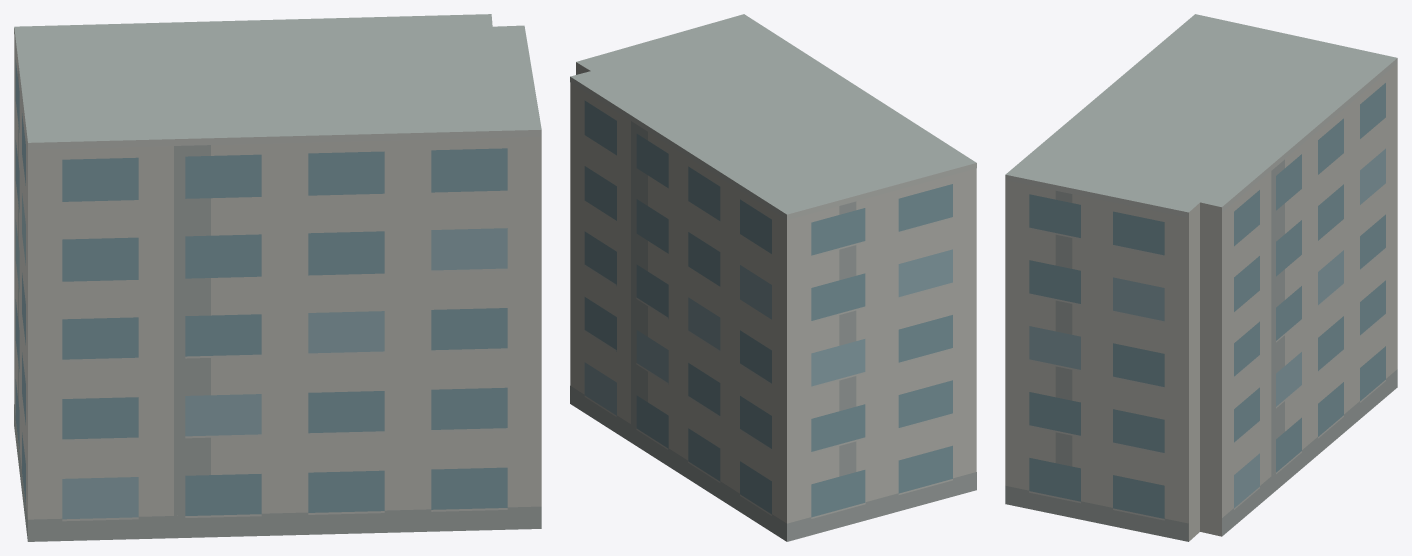
The model's file is survey-upis-32842944.glb.
The picture shows the model from 3 angles, left to right: view 1: azimuth 30°, elevation 25°; view 2: azimuth 150°, elevation 25°; view 3: azimuth 270°, elevation 25°; orthographic projection. The views are drawn at different scales.
Visible parts, largest first — view 1: survey-upis-32842944.tmp; view 2: survey-upis-32842944.tmp; view 3: survey-upis-32842944.tmp.
Boxes of the visible parts, bbox=[...] form: survey-upis-32842944.tmp: bbox=[14, 14, 541, 541]; survey-upis-32842944.tmp: bbox=[570, 14, 976, 541]; survey-upis-32842944.tmp: bbox=[1005, 14, 1397, 541].
Bounding box in the file's own units: 18.36 × 14.2 × 15.34.
